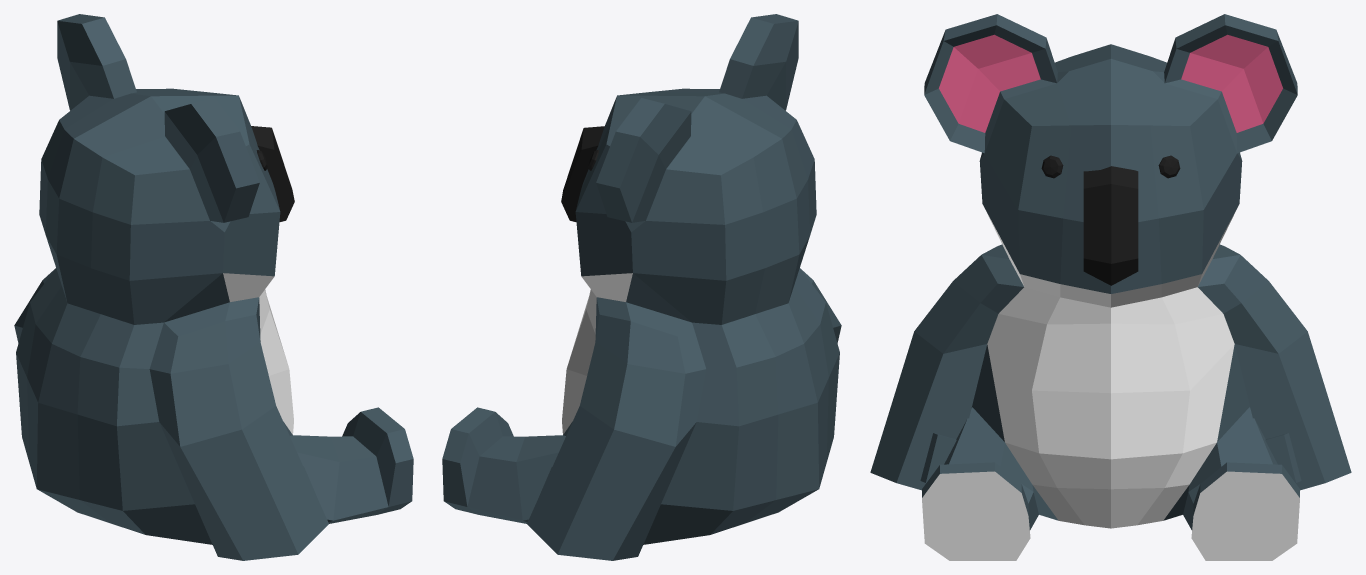
File: Koala_01.obj
The picture shows the model from 3 angles, left to right: view 1: azimuth 30°, elevation 25°; view 2: azimuth 150°, elevation 25°; view 3: azimuth 270°, elevation 25°; orthographic projection. The views are drawn at different scales.
Parts seen in each view (by area): view 1: Koala_01_Circle.004; view 2: Koala_01_Circle.004; view 3: Koala_01_Circle.004.
Part boxes in pixels (x1,y1,x2,y2): Koala_01_Circle.004: (14, 14, 413, 560); Koala_01_Circle.004: (442, 14, 841, 560); Koala_01_Circle.004: (870, 14, 1351, 560).
Size of the model in its own units: 6.84 by 9.94 by 9.56.
